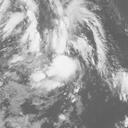cyclone: (47, 54, 79, 82)
